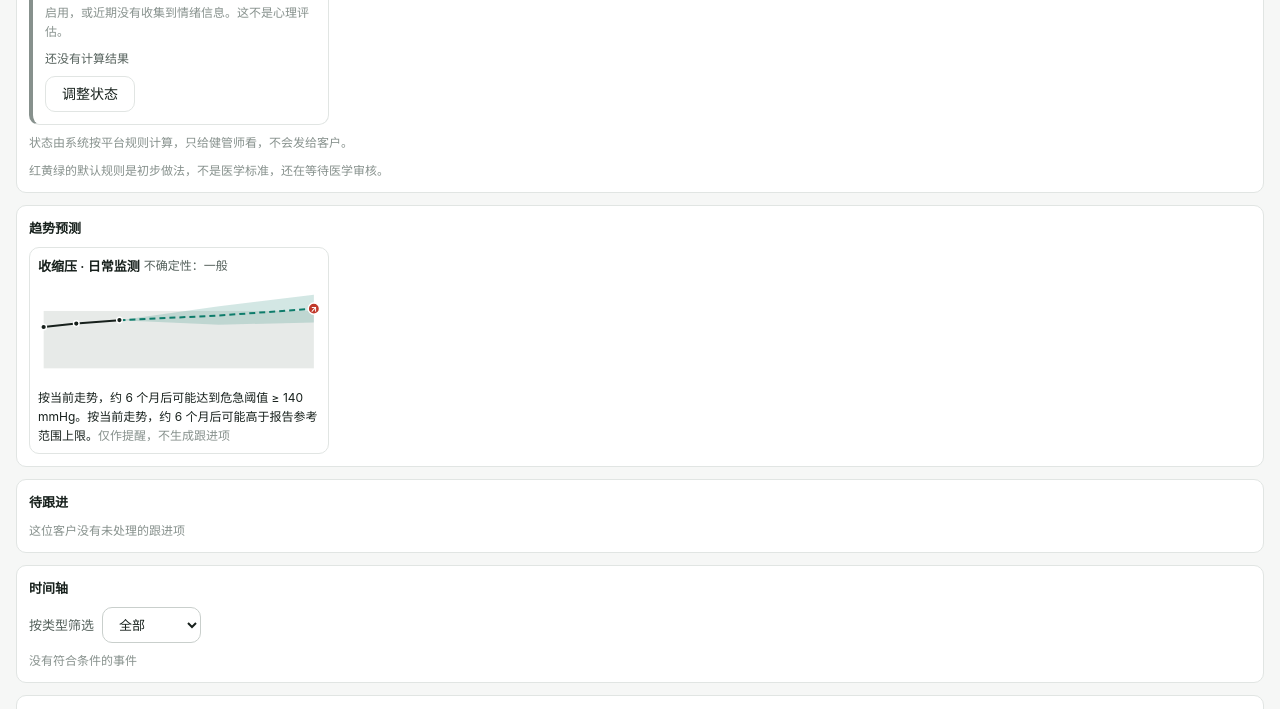
Test: 趋势预测（规格 2.4） › 在孪生里点小图打开大图（危急阈值从平台阈值读取）
(page scrolled)
Click the button with aria-label "查看收缩压（日常监测）的大图和依据".
click(179, 350)  # box [29, 247, 328, 454]
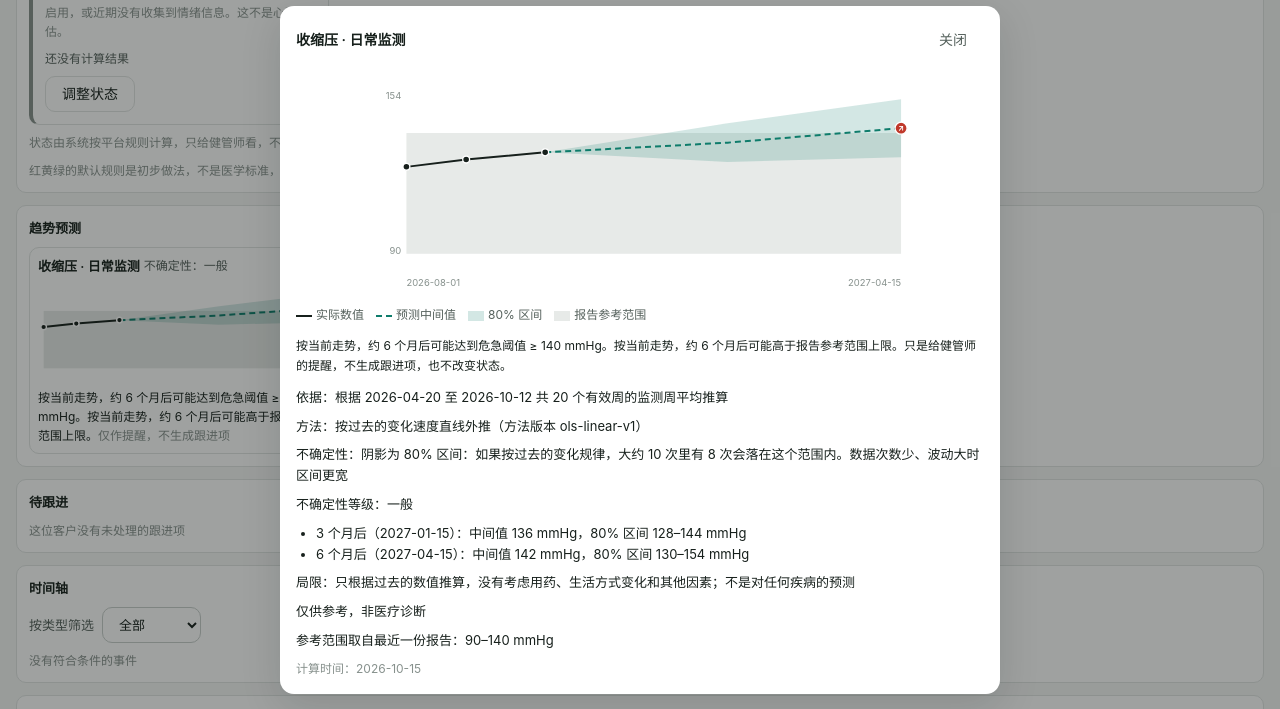
Expected: the dialog shows "局限：只根据过去的数值推算", [296, 574, 855, 590]
Expected: the dialog shows "约 6 个月后可能达到危急阈值 ≥ 140 mmHg。", [296, 338, 904, 354]
Expected: the dialog shows "仅供参考，非医疗诊断", [296, 603, 426, 619]
Click the button "关闭".
click(953, 40)  # box [922, 22, 984, 58]
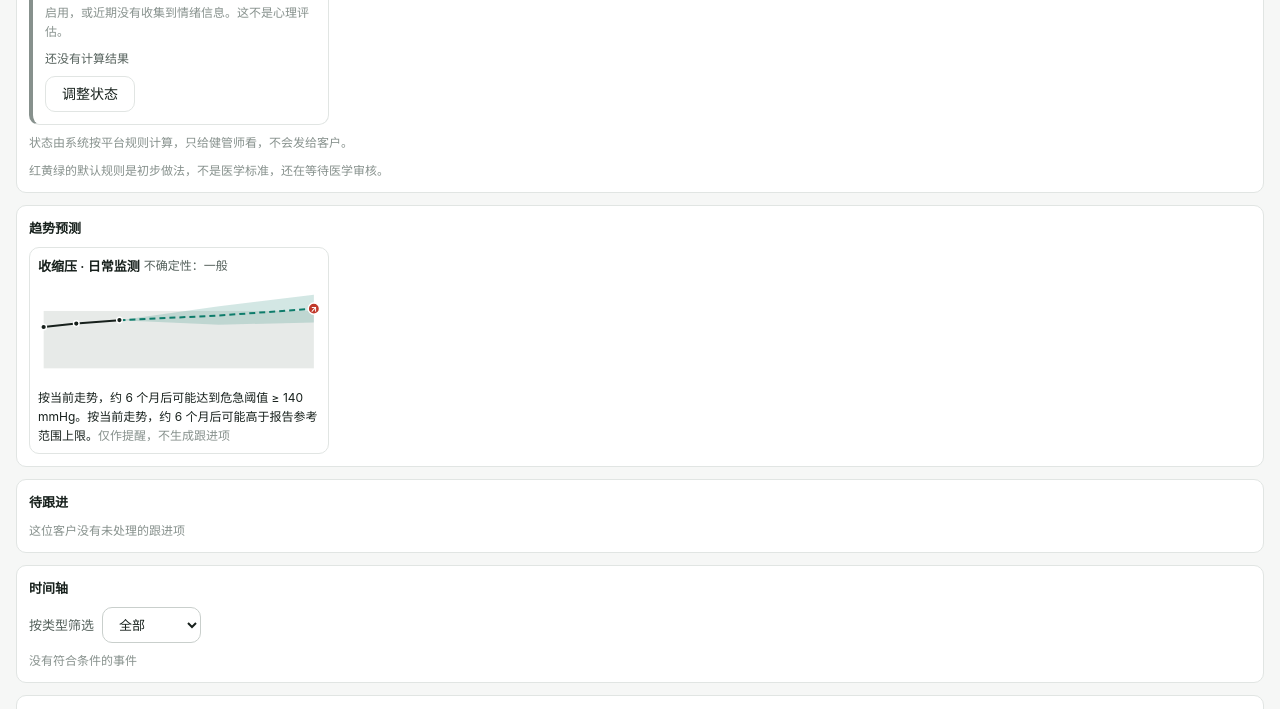
Expected: the dialog is gone
